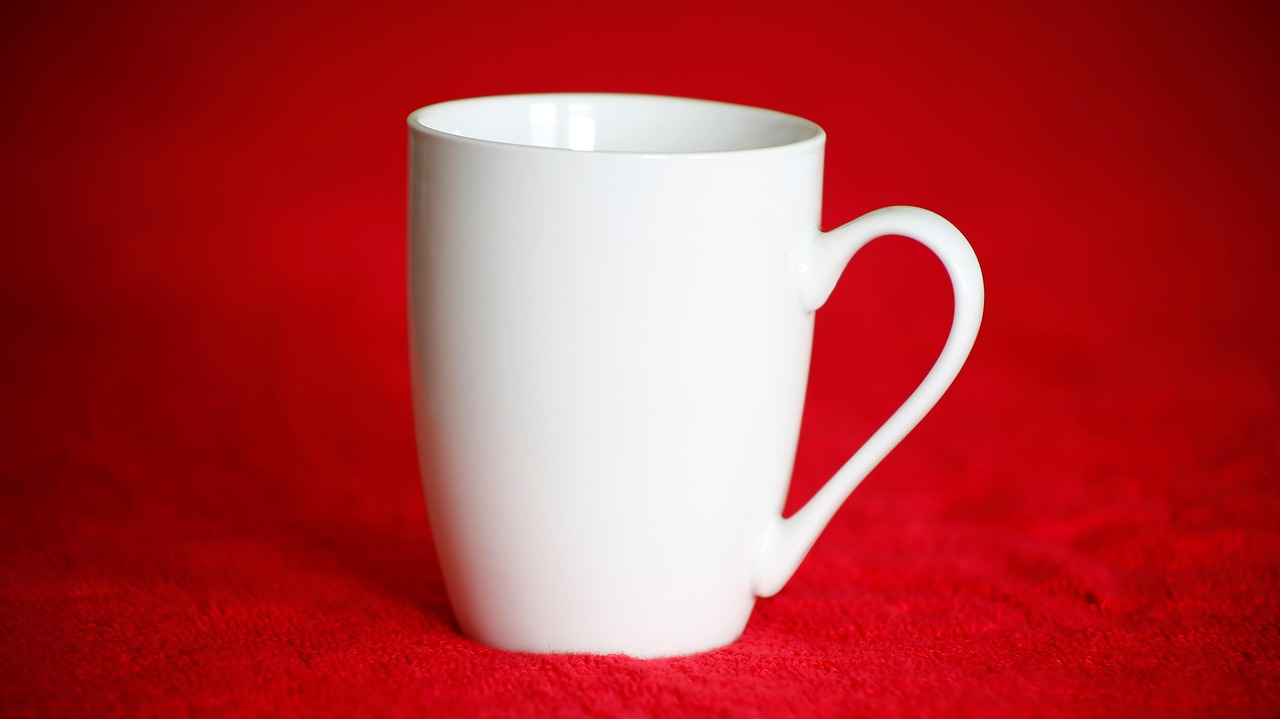mug: (346, 82, 1042, 704)
